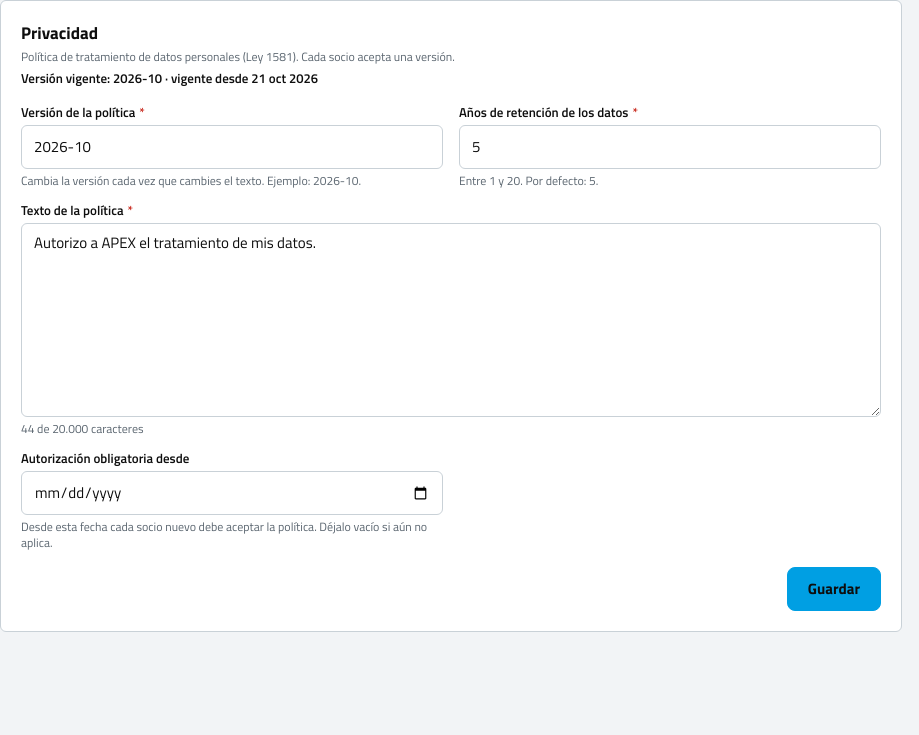
Test: PrivacySettingsForm › un 409 muestra el aviso de conflicto con Recargar
Expected: the field labelled "Versión de la política*" is shown, [21,125,443,169]
Type " Más." into the text box labelled "Texto de la política*" at (451, 320), box [21,223,881,417]
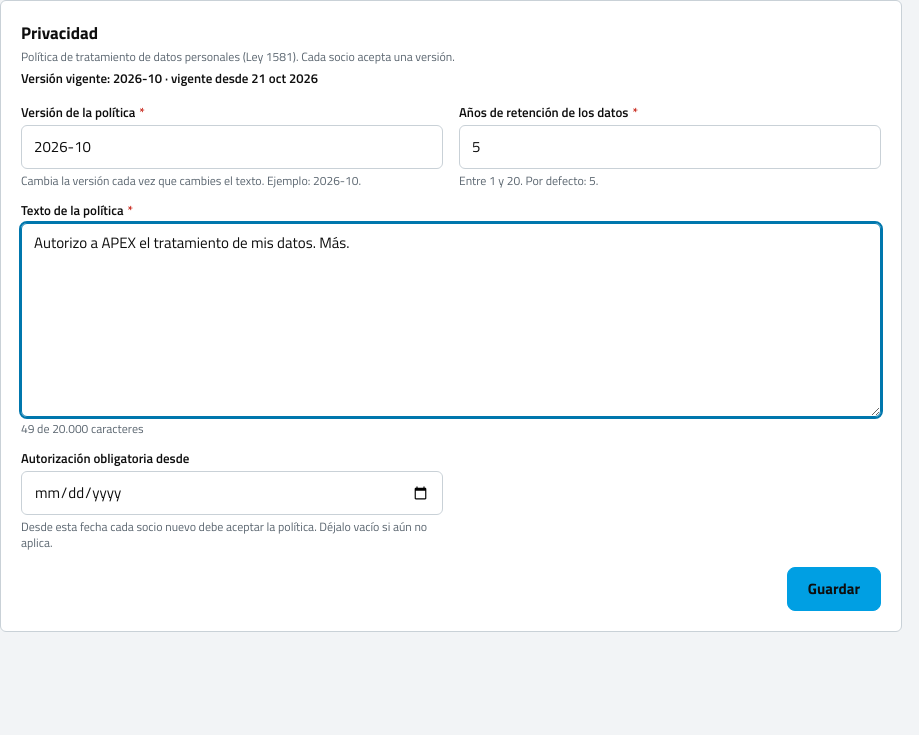
Click the button "Guardar" at (834, 589), box [787,567,881,611]
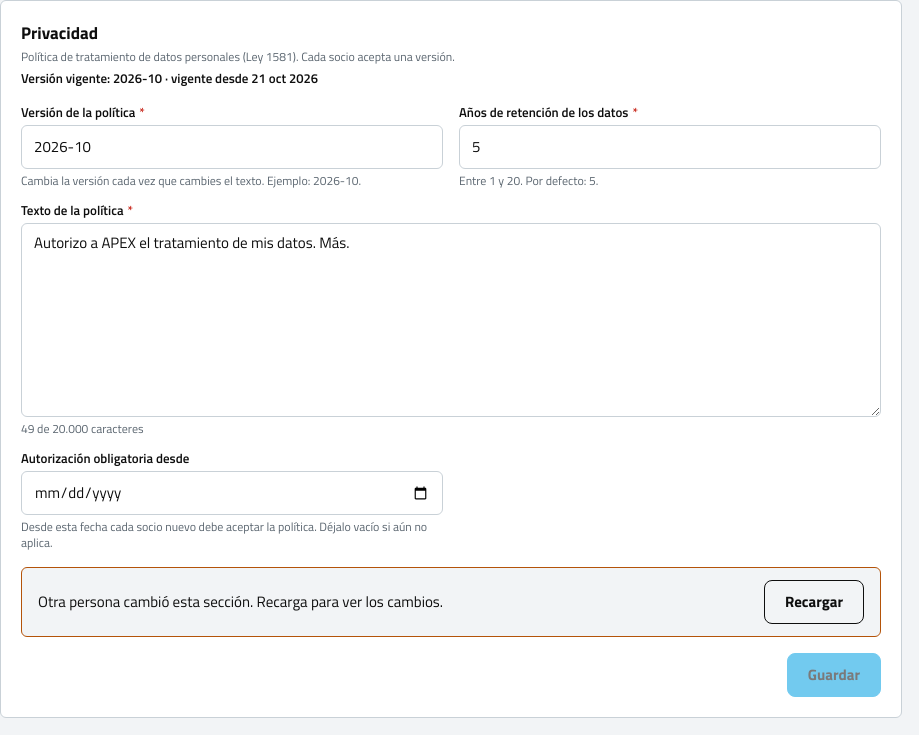
Expected: the message shows "Otra persona cambió esta sección. Recarga para ver los cambios.", [38,590,443,613]
Expected: the button "Recargar" is shown, [764,580,864,624]
